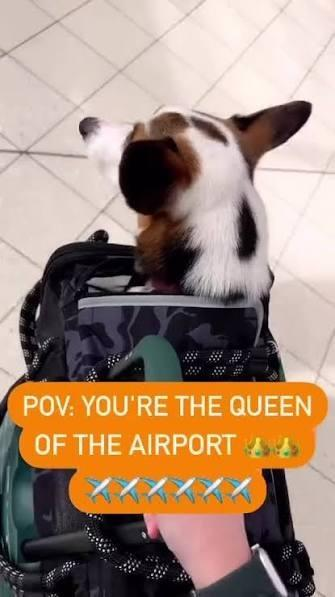adult_dog: (76, 103, 318, 303)
